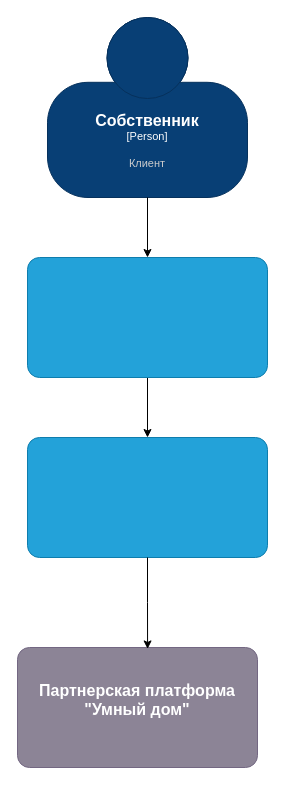
The diagram is 285 pixels wide and 785 high, and some of its shapes have lost their labels. The shapes that lost their labels are listed below. From the top down, each one's centre as x and y in pixels, then its label:
At [147,317]: "Витрина сервисов для собственников Мобильные приложения для собственников".
At [147,497]: "Приложение для собственников Приложение для предоставления услуг собственникам".
